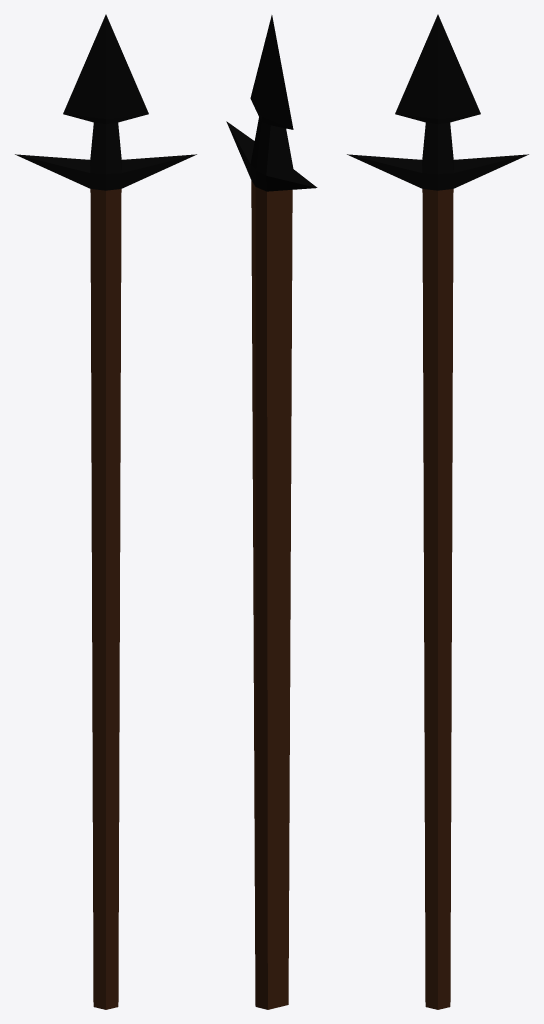
Rendered from spear.fbx.
3 renders of one model, left to right at view 1: azimuth 90°, elevation 25°; view 2: azimuth 210°, elevation 25°; view 3: azimuth 270°, elevation 25°, orthographic.
Visible parts, largest first — view 1: Cube; view 2: Cube; view 3: Cube.
Boxes of the visible parts, x1,y1,x2,y2 form: Cube: [15, 14, 196, 1009]; Cube: [226, 15, 317, 1009]; Cube: [347, 14, 528, 1009].
Size of the model in its own units: 0.8103 by 0.1682 by 4.82.
